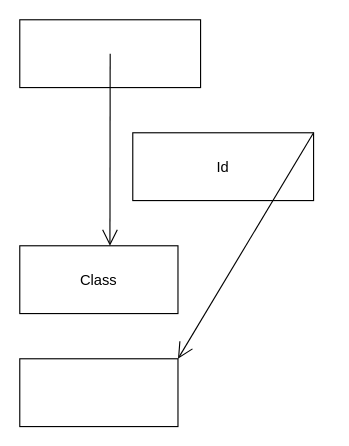
Some shapes in this 349 by 446 pixel diagram are drawn without their labels. The box of each missing label's shape, as (x1, y1, x2, y2) in pixels:
Entity: (19, 19, 201, 88)
Property: (19, 358, 178, 427)
